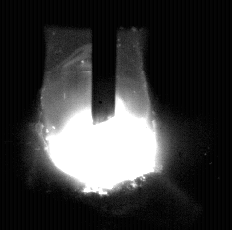arame: (92, 0, 117, 126)
poca: (43, 0, 158, 230)
